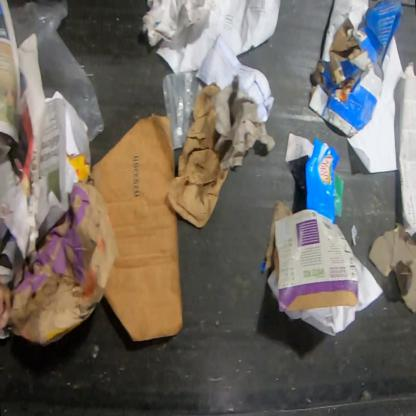cardboard: (78, 111, 185, 343), (307, 0, 406, 138), (36, 93, 92, 244), (304, 136, 340, 224), (259, 196, 295, 284)
soft_plastic: (8, 0, 107, 145), (161, 70, 208, 148)
